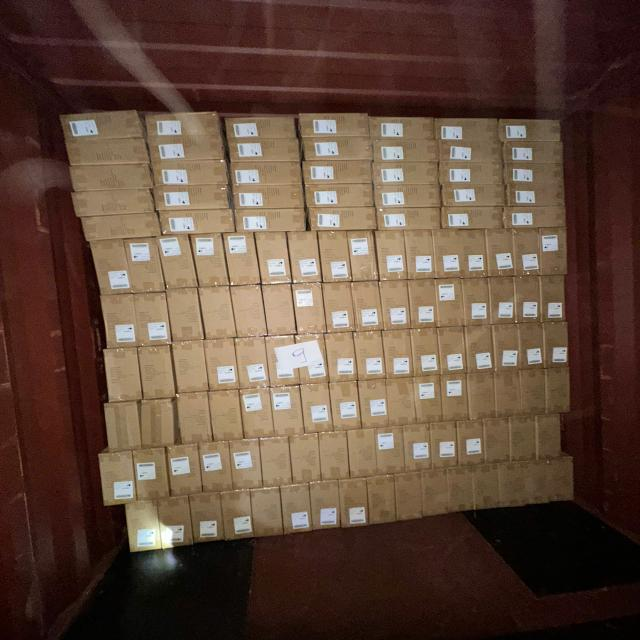Carton: (55, 108, 147, 143), (64, 136, 152, 166), (71, 189, 158, 219), (67, 163, 155, 192), (77, 210, 162, 240), (87, 240, 130, 296), (141, 111, 225, 138), (154, 185, 234, 213), (146, 136, 227, 162), (152, 159, 230, 186), (101, 295, 138, 350), (158, 210, 236, 236), (103, 348, 141, 401), (126, 238, 163, 292), (102, 453, 138, 508), (135, 293, 171, 347), (229, 138, 303, 164), (161, 238, 196, 292), (301, 160, 371, 187), (193, 235, 228, 288), (126, 501, 161, 554), (168, 290, 203, 343), (234, 209, 308, 234), (436, 159, 502, 187), (300, 136, 371, 162), (140, 346, 174, 400), (233, 187, 306, 212), (231, 162, 304, 187), (305, 184, 375, 210), (258, 235, 292, 288), (228, 118, 300, 143), (141, 400, 176, 451), (172, 341, 206, 393), (226, 234, 260, 286), (177, 393, 211, 445), (372, 161, 440, 187), (104, 402, 140, 451), (202, 288, 235, 341), (160, 498, 193, 551), (432, 118, 499, 144), (438, 139, 505, 165), (135, 449, 169, 500), (168, 445, 202, 496), (504, 160, 568, 187), (233, 288, 266, 340), (287, 232, 320, 284), (500, 205, 566, 231), (206, 338, 238, 391), (441, 206, 506, 232), (498, 118, 563, 144), (191, 494, 224, 545), (264, 286, 296, 338), (318, 231, 350, 283), (236, 336, 268, 388), (210, 390, 242, 442), (268, 336, 300, 388), (439, 183, 503, 209), (500, 139, 564, 165), (301, 116, 370, 140), (308, 208, 377, 232), (251, 489, 283, 540), (223, 492, 255, 543), (200, 442, 232, 493), (366, 118, 434, 142), (272, 388, 303, 440), (374, 184, 441, 208), (370, 138, 437, 162), (231, 440, 263, 490), (240, 390, 272, 440), (505, 184, 569, 209), (372, 208, 438, 232), (324, 285, 356, 334), (376, 233, 407, 283), (295, 286, 326, 336), (262, 438, 293, 488), (298, 335, 329, 385), (282, 486, 312, 537), (310, 480, 340, 531), (327, 333, 357, 383), (289, 435, 319, 485), (381, 282, 411, 332), (302, 383, 332, 433), (406, 231, 436, 281), (352, 284, 382, 333), (354, 332, 384, 381), (470, 463, 500, 512), (332, 381, 361, 431), (358, 379, 387, 429), (546, 455, 575, 505), (383, 331, 413, 379), (341, 478, 369, 529), (368, 476, 397, 525), (375, 428, 404, 477), (538, 227, 567, 276), (348, 430, 376, 480), (349, 232, 377, 282), (394, 472, 422, 522), (434, 229, 462, 279), (319, 433, 348, 481), (446, 468, 476, 514), (409, 281, 437, 330), (512, 228, 540, 277), (414, 376, 442, 424), (412, 330, 440, 378), (404, 425, 432, 473), (462, 280, 490, 328), (486, 230, 514, 278), (441, 374, 469, 422), (464, 326, 492, 374), (498, 460, 526, 508), (459, 230, 486, 279), (523, 458, 550, 507), (492, 325, 520, 372), (438, 280, 464, 330), (440, 328, 467, 376), (387, 378, 414, 426), (422, 470, 449, 518), (466, 373, 494, 419), (430, 424, 457, 471), (515, 278, 542, 325), (510, 418, 538, 463), (488, 278, 514, 326), (494, 370, 520, 418), (540, 277, 566, 324), (484, 419, 510, 466), (520, 370, 546, 417), (457, 422, 484, 467), (545, 369, 572, 414), (534, 416, 562, 459), (542, 323, 568, 369), (520, 324, 545, 370)
